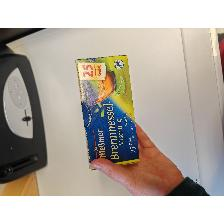Tee: (74, 54, 142, 170)
